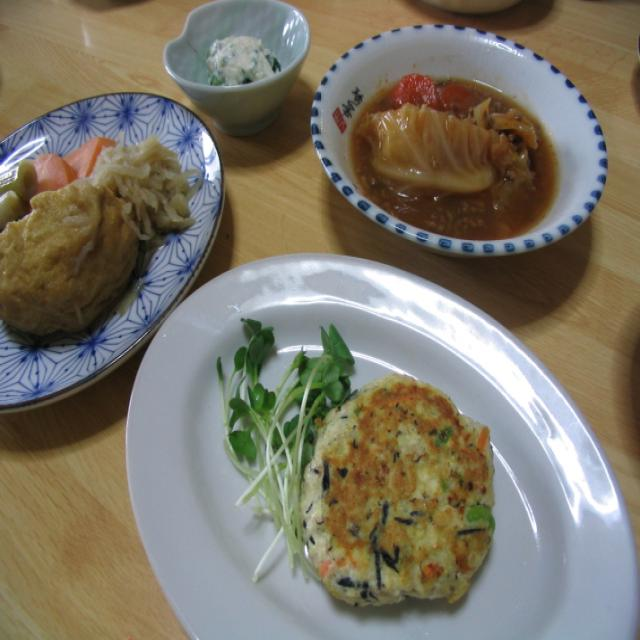熟制海鲜: (298, 375, 530, 603)
